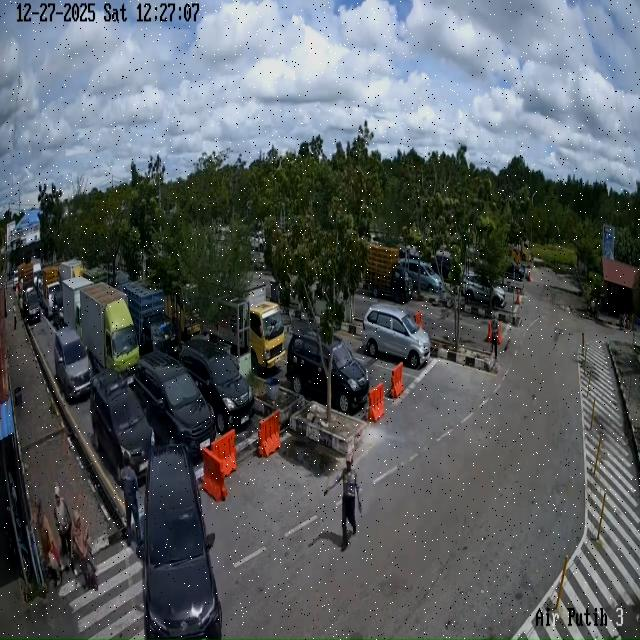Golongan IVA: (136, 444, 222, 640), (133, 352, 215, 459), (286, 328, 370, 413), (180, 339, 254, 434), (90, 369, 152, 481), (362, 304, 430, 369), (54, 327, 92, 401), (462, 271, 506, 309), (400, 258, 442, 293), (431, 252, 452, 281), (24, 288, 40, 325)
Golongan VB: (206, 284, 286, 372), (80, 283, 139, 372), (122, 282, 178, 358), (364, 244, 413, 304), (164, 285, 201, 341), (62, 276, 93, 337), (41, 266, 61, 318), (58, 259, 85, 283)
